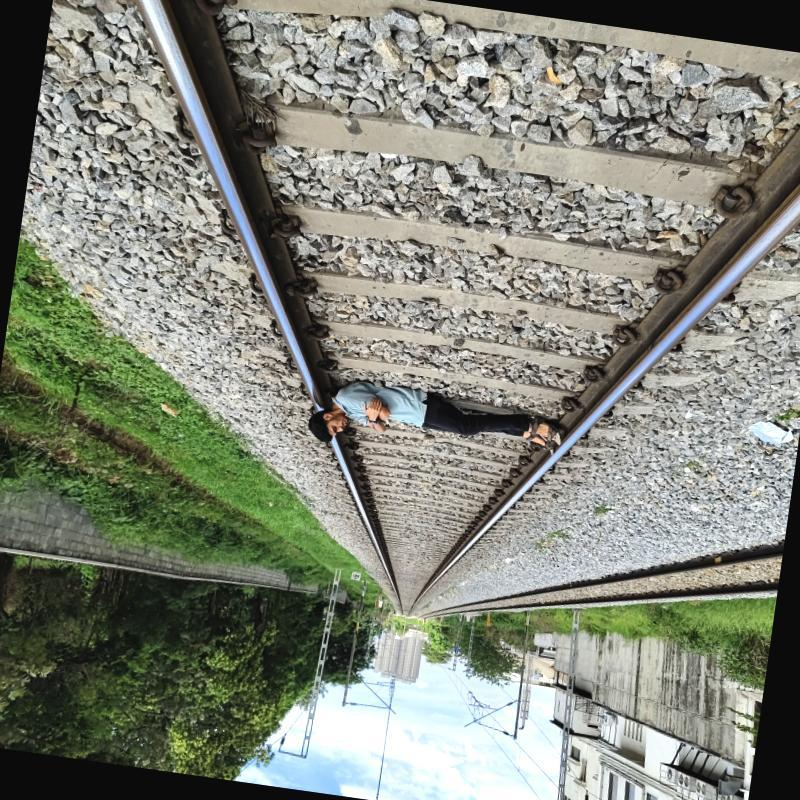sleeping: (290, 368, 572, 487)
